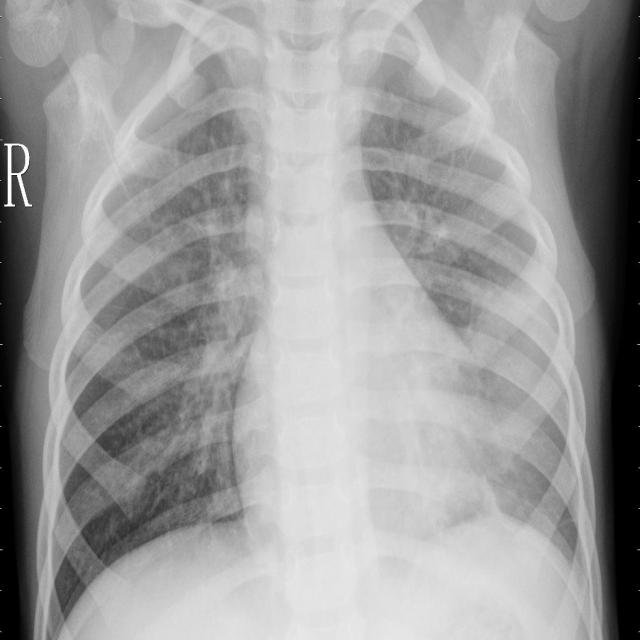low-pneumonia: (173, 178, 255, 478), (475, 291, 571, 464), (376, 169, 471, 311)
